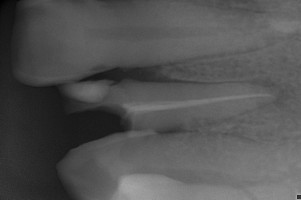Furcation Involvement: (246, 78, 291, 106)
